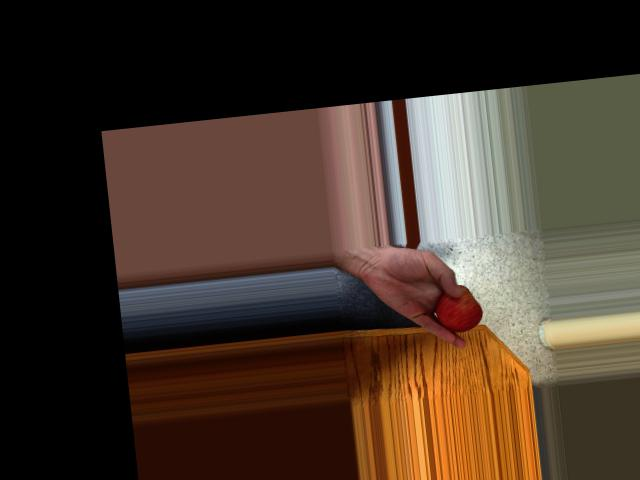apple: (426, 281, 488, 335)
